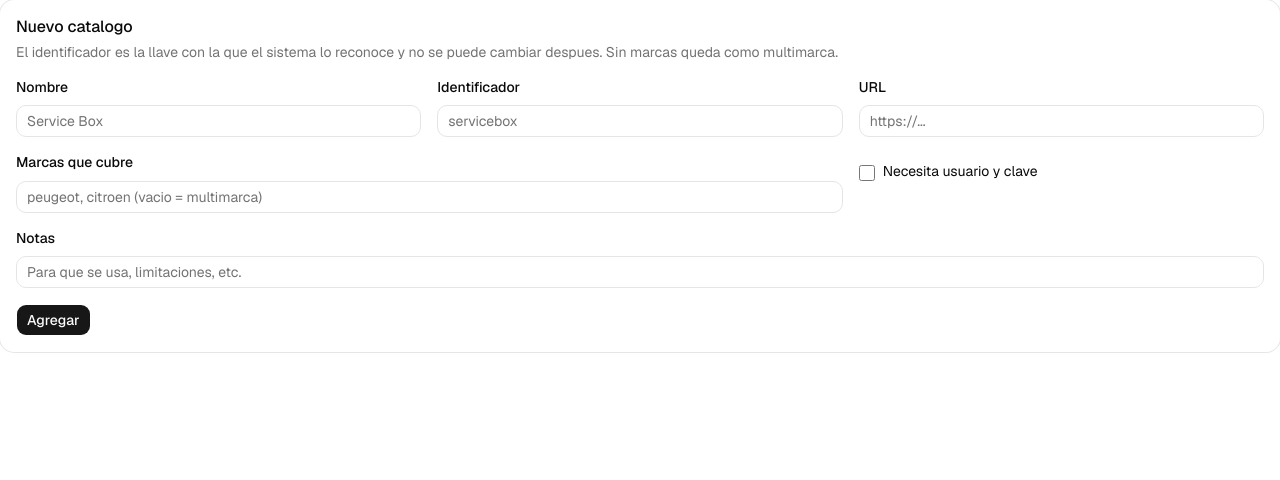
Test: el alta marca los campos que volvieron con error
Type "S" into the field labelled "Nombre" at [219, 121], box 16,105 -> 421,137
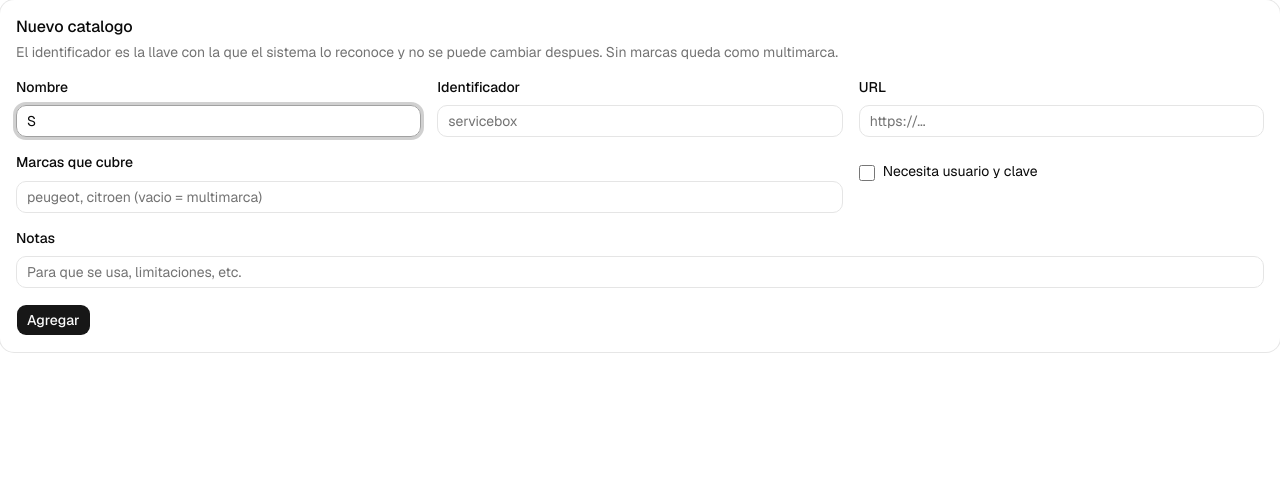
Type "s" into the field labelled "Identificador" at [640, 121], box 437,105 -> 843,137
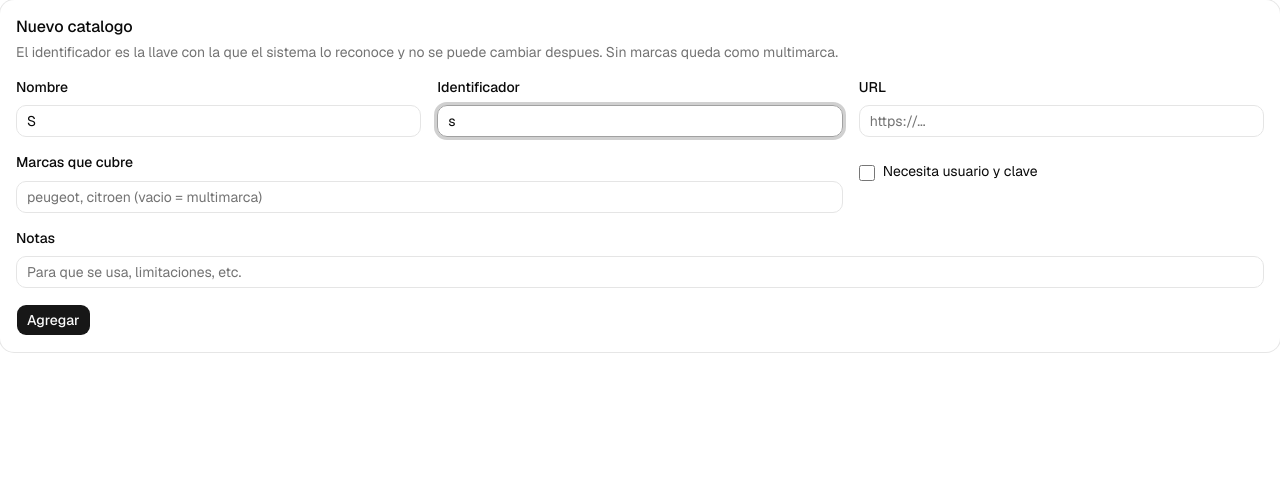
Type "https://x.com" into the field labelled "URL" at [1061, 121], box 859,105 -> 1264,137
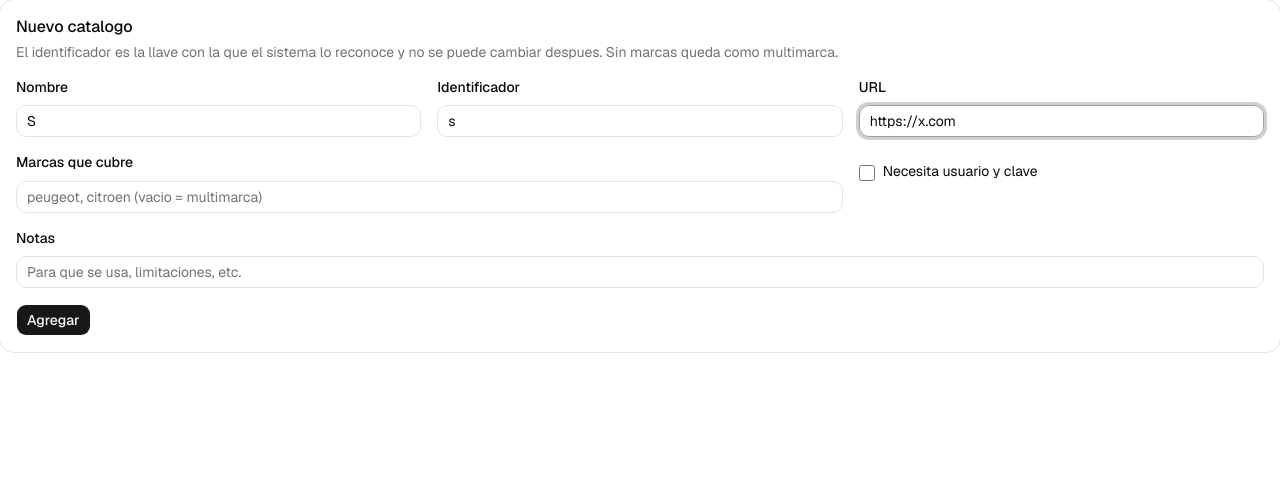
Click the button "Agregar" at [53, 320], box 16,304 -> 91,336
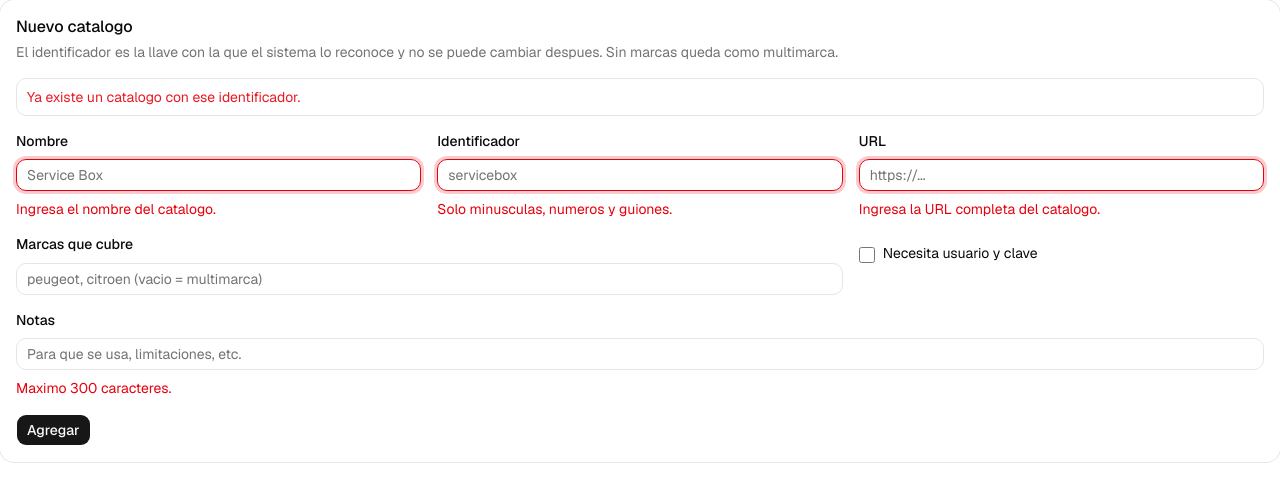
Check: the text "Ya existe un catalogo con ese identificador." is shown, box 27,88 -> 300,106
Check: the text "Maximo 300 caracteres." is shown, box 16,379 -> 171,397
